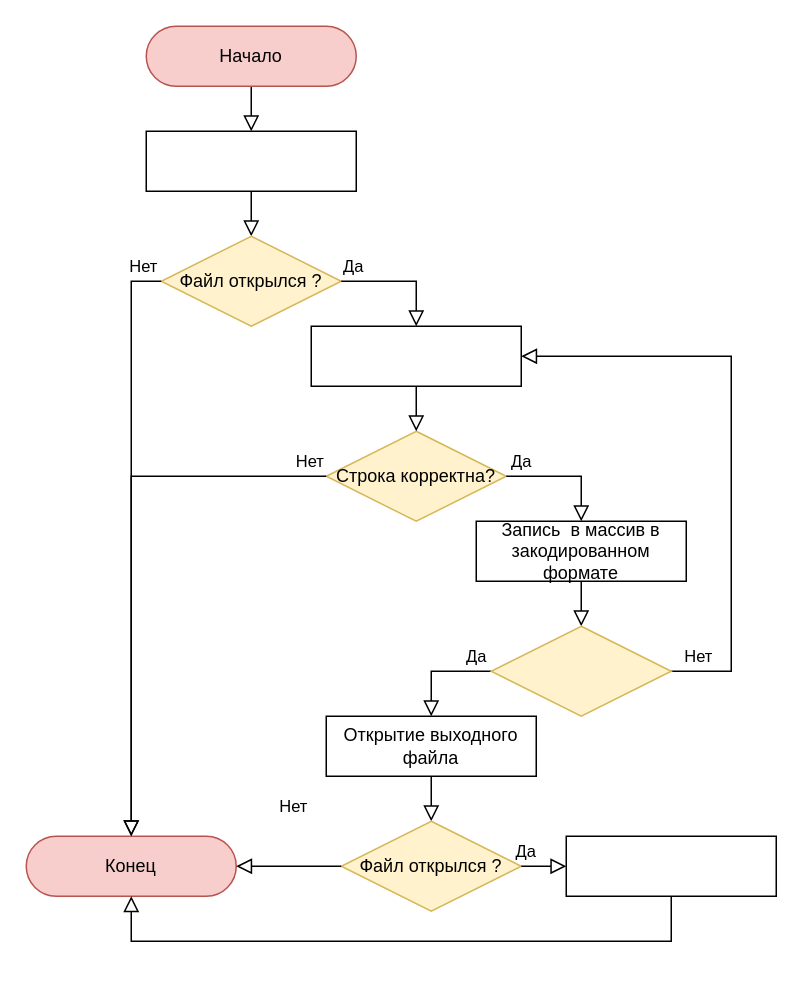
Some shapes in this 803 by 983 pixel diagram are drawn without their labels. The box of each missing label's shape, as (x1, y1, x2, y2) in pixels:
Достигнут конец файла ?: (490, 625, 671, 716)
Запись массива в бинарном виде в файл: (565, 835, 776, 896)
Открытие входного файла: (145, 130, 356, 191)
Считывание строки: (310, 325, 521, 386)
